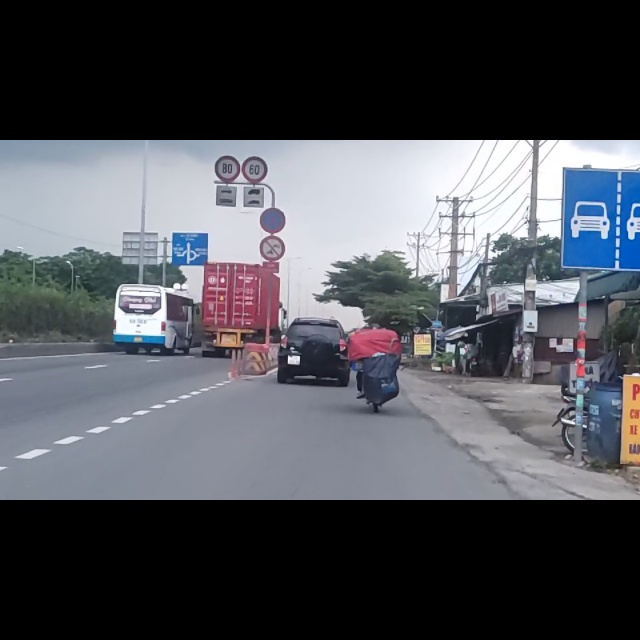bien_cam: (213, 27, 241, 76), (259, 120, 287, 166), (242, 28, 268, 76), (259, 168, 285, 215)
